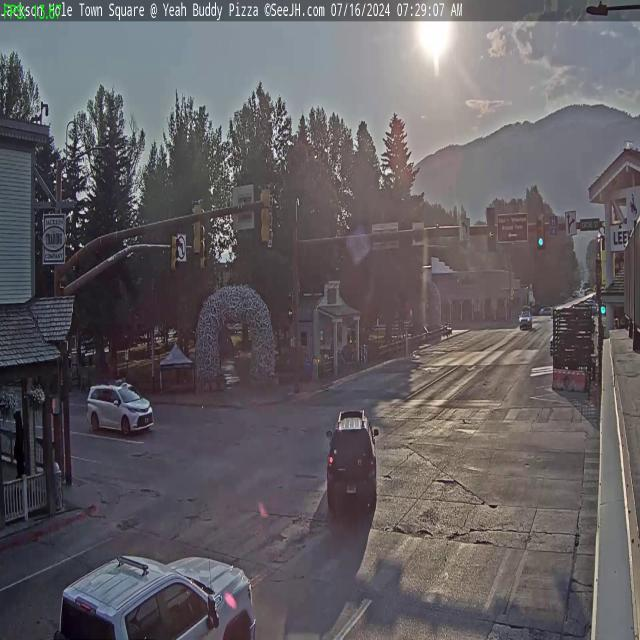pickup: (49, 550, 265, 639)
suv: (325, 411, 383, 517), (87, 377, 154, 438)
traffic light: (260, 184, 273, 244), (190, 200, 203, 256), (487, 206, 496, 251), (170, 233, 178, 274), (537, 214, 546, 248)
